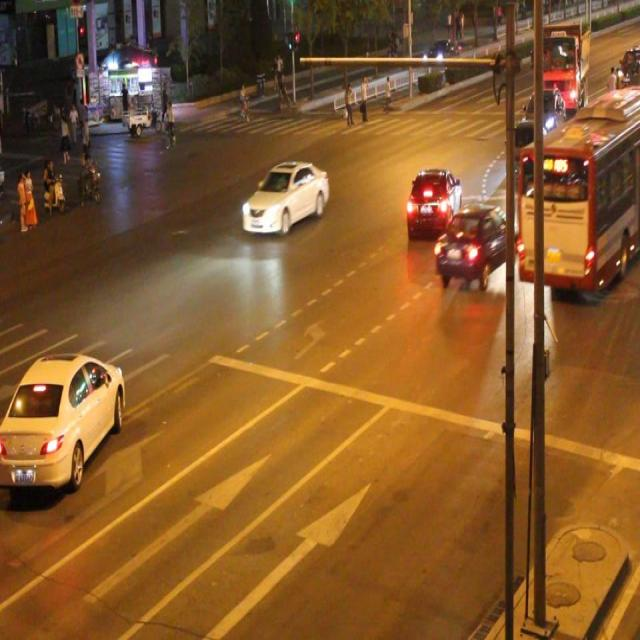car: (1, 350, 127, 487), (433, 205, 516, 286), (241, 158, 329, 234), (404, 168, 463, 239), (506, 120, 547, 184)
van: (520, 90, 640, 280)
